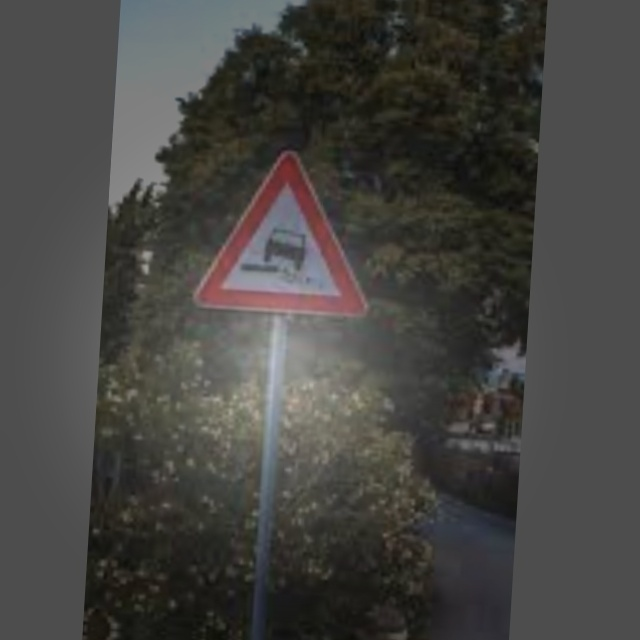Loose_Gravel: (206, 151, 370, 317)
